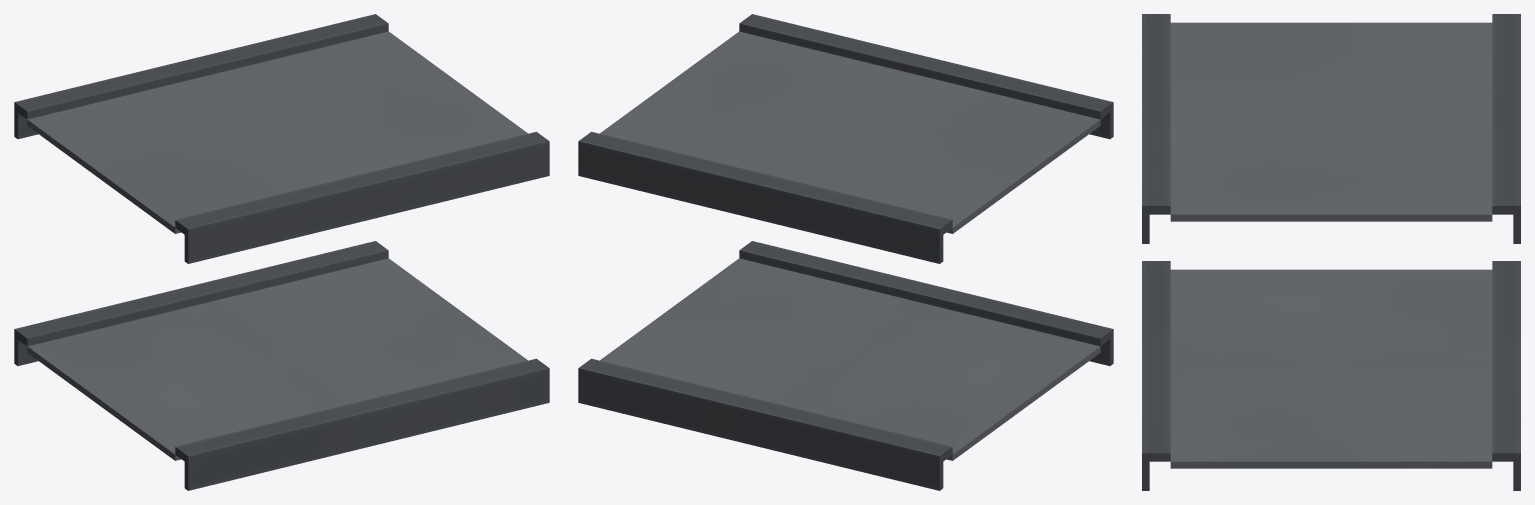
File: core_upper.obj
3 renders of one model, left to right at view 1: azimuth 30°, elevation 25°; view 2: azimuth 150°, elevation 25°; view 3: azimuth 270°, elevation 25°, orthographic. The views are drawn at different scales.
Parts seen in each view (by area): view 1: core_upper__core_upper_deck, core_upper__core_upper_beams; view 2: core_upper__core_upper_deck, core_upper__core_upper_beams; view 3: core_upper__core_upper_deck, core_upper__core_upper_beams.
Boxes of the visible parts, bbox=[...] form: core_upper__core_upper_deck: bbox=[27, 31, 527, 460]; core_upper__core_upper_beams: bbox=[14, 14, 549, 490]; core_upper__core_upper_deck: bbox=[600, 31, 1100, 460]; core_upper__core_upper_beams: bbox=[578, 14, 1113, 490]; core_upper__core_upper_deck: bbox=[1170, 22, 1492, 468]; core_upper__core_upper_beams: bbox=[1142, 14, 1520, 490].
Size of the model in its own units: 0.75 by 0.5187 by 0.625.
